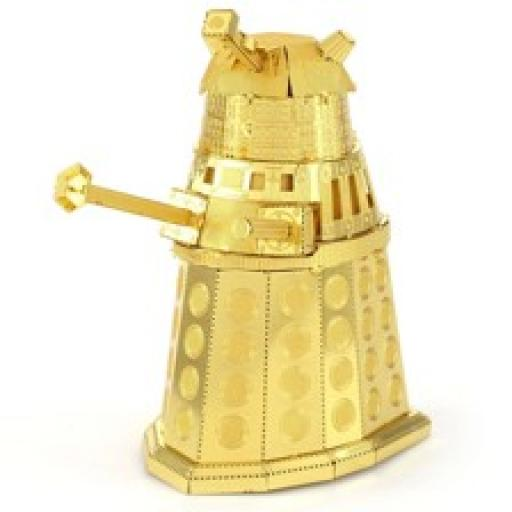dalek: (48, 10, 439, 496)
